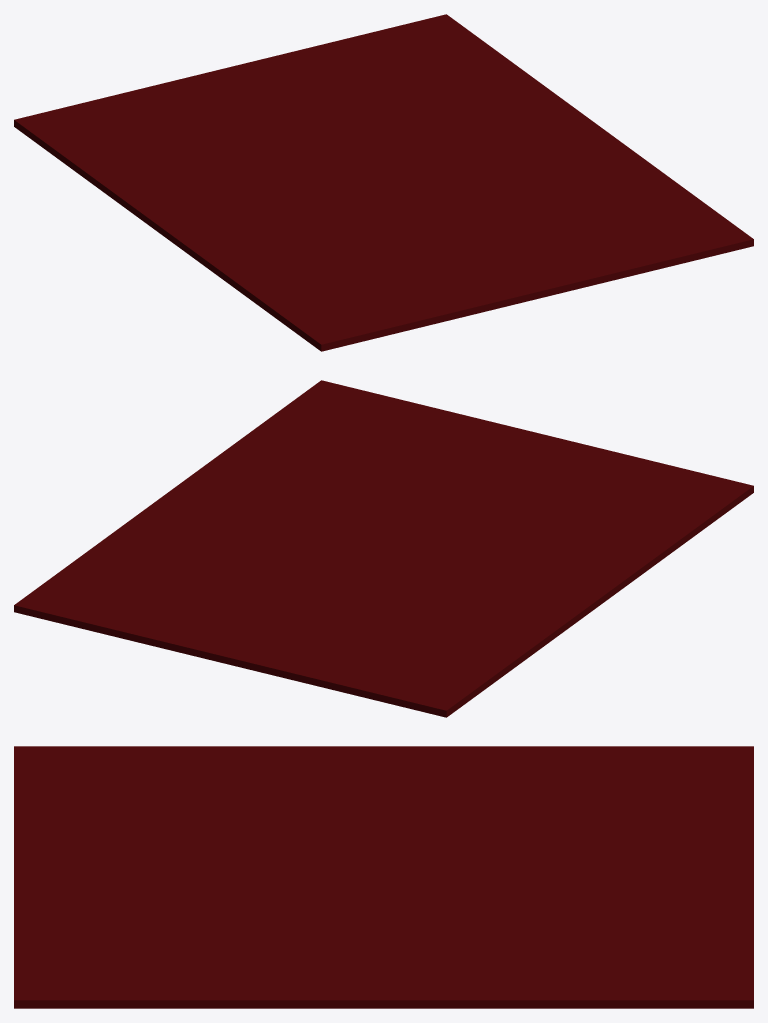
File: GroundFloor.fbx
3 views of the same model, one above another, from view 1: azimuth 30°, elevation 25°; view 2: azimuth 150°, elevation 25°; view 3: azimuth 270°, elevation 25° (orthographic). The views are drawn at different scales.
Parts seen in each view (by area): view 1: Ground Floor; view 2: Ground Floor; view 3: Ground Floor.
Part boxes in pixels (x1,y1,x2,y2): Ground Floor: (14,14,753,351); Ground Floor: (14,380,753,717); Ground Floor: (14,746,753,1008).
Size of the model in its own units: 6500 by 100 by 8000.
